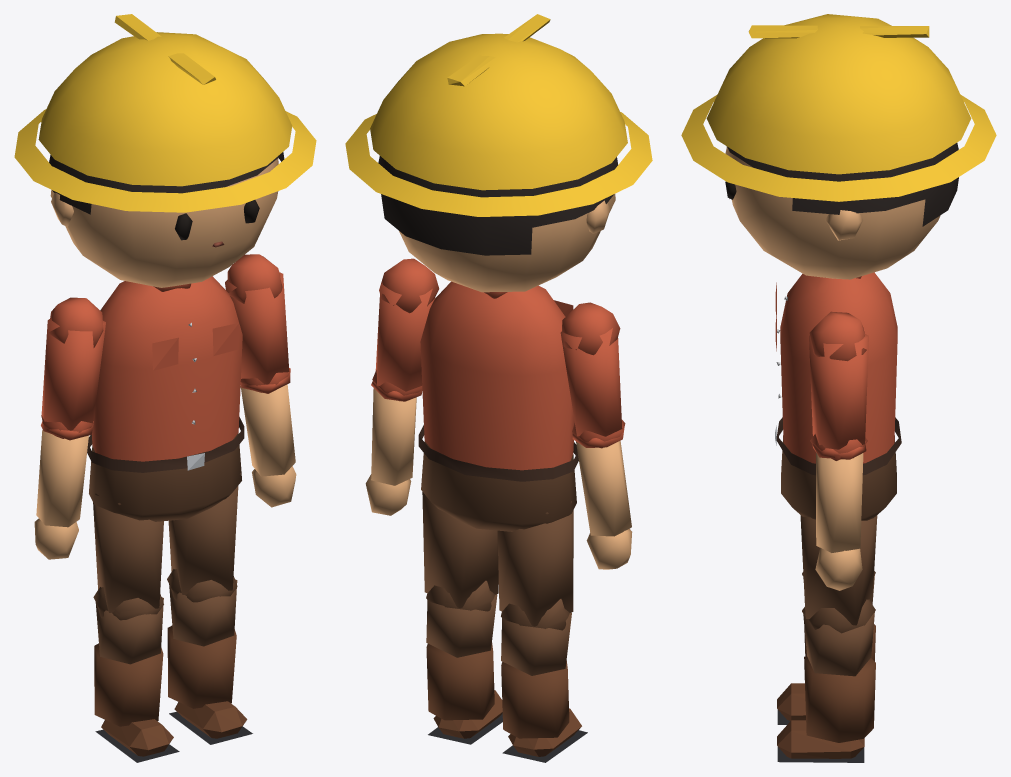
Rendered from era3_builder.glb.
3 renders of one model, left to right at view 1: azimuth 30°, elevation 25°; view 2: azimuth 150°, elevation 25°; view 3: azimuth 270°, elevation 25°, orthographic. The views are drawn at different scales.
Visible parts, largest first — view 1: head, body, shin_R, shin_L, arm_R, leg_R, arm_L, forearm_R, leg_L, forearm_L; view 2: head, body, shin_R, shin_L, leg_R, arm_R, arm_L, leg_L, forearm_R, forearm_L; view 3: head, body, shin_L, arm_L, forearm_L, leg_L, shin_R.
Boxes of the visible parts, left/top/right/bottom form: head: left=14, top=14, right=316, bottom=287; body: left=87, top=276, right=244, bottom=521; shin_R: left=94, top=587, right=179, bottom=762; shin_L: left=167, top=569, right=252, bottom=744; arm_R: left=41, top=297, right=105, bottom=438; leg_R: left=93, top=493, right=163, bottom=620; arm_L: left=225, top=254, right=289, bottom=392; forearm_R: left=34, top=421, right=93, bottom=559; leg_L: left=167, top=473, right=240, bottom=602; forearm_L: left=240, top=368, right=296, bottom=507; head: left=345, top=14, right=652, bottom=292; body: left=418, top=281, right=578, bottom=531; shin_R: left=501, top=599, right=587, bottom=762; shin_L: left=426, top=580, right=502, bottom=744; leg_R: left=497, top=501, right=573, bottom=628; arm_R: left=560, top=302, right=625, bottom=448; arm_L: left=372, top=258, right=439, bottom=401; leg_L: left=422, top=492, right=498, bottom=610; forearm_R: left=572, top=420, right=632, bottom=569; forearm_L: left=365, top=381, right=422, bottom=515; head: left=681, top=14, right=996, bottom=279; body: left=775, top=272, right=901, bottom=520; shin_L: left=777, top=599, right=875, bottom=762; arm_L: left=809, top=311, right=868, bottom=460; forearm_L: left=812, top=443, right=866, bottom=590; leg_L: left=800, top=506, right=877, bottom=632; shin_R: left=777, top=574, right=875, bottom=724.
Size of the model in its own units: 0.611 by 1.52 by 0.611.
